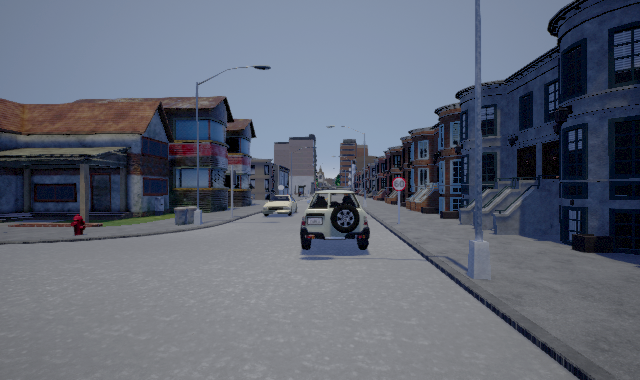traffic_sign: (392, 177, 406, 191)
vehicle: (300, 186, 370, 250), (262, 195, 298, 217)
